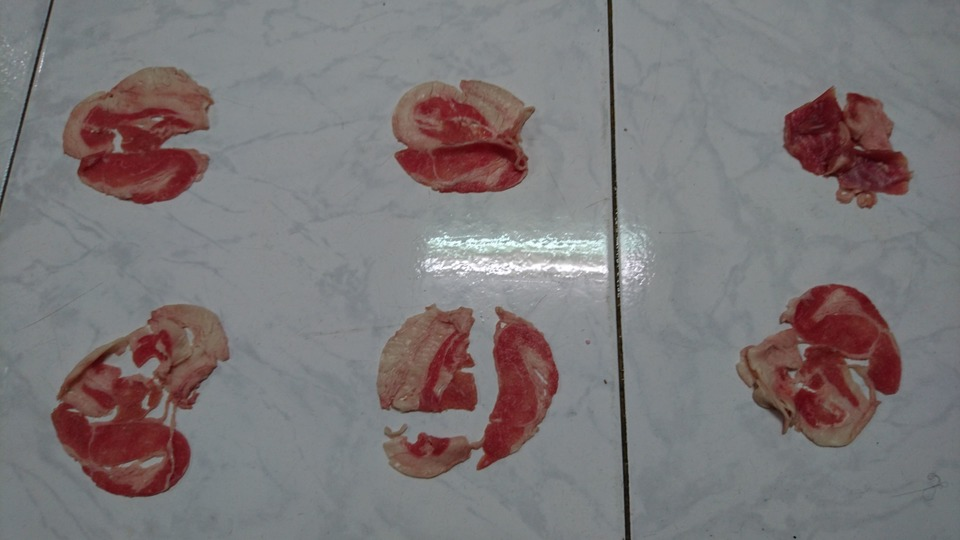restructured meat: (38, 304, 232, 499), (372, 300, 560, 482), (729, 278, 900, 452), (61, 64, 214, 206), (394, 74, 534, 202), (780, 77, 920, 205)
